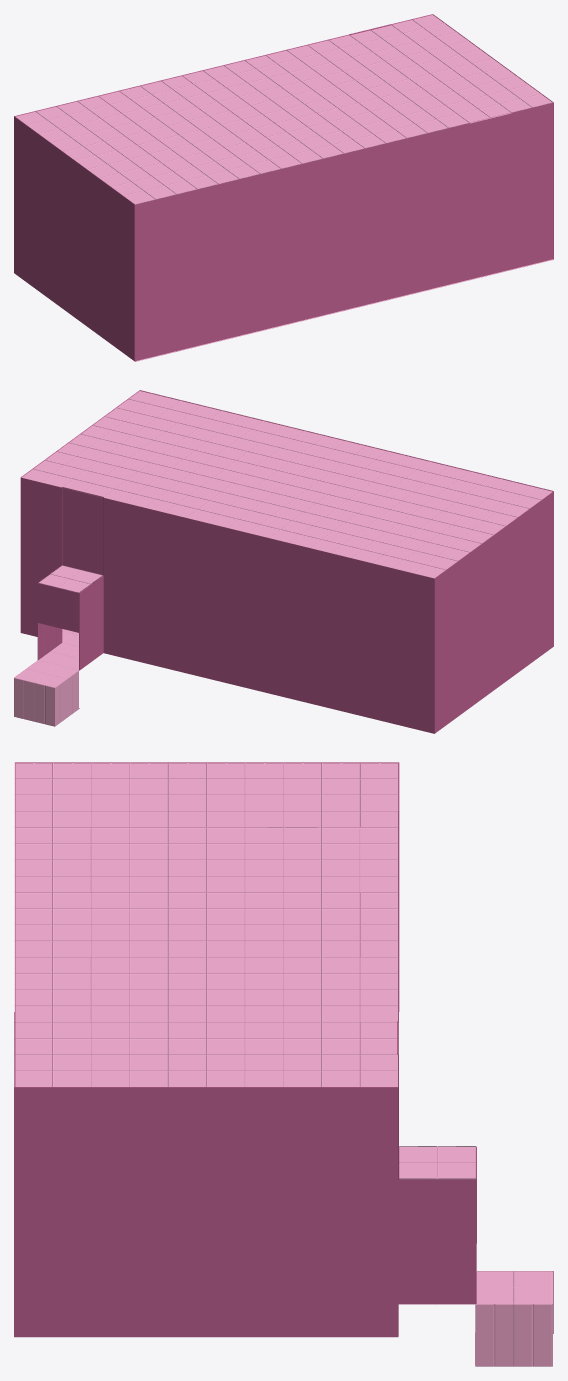
Rendered from ROOM4_Model.fbx.
The picture shows the model from 3 angles, top to bottom: view 1: azimuth 30°, elevation 25°; view 2: azimuth 150°, elevation 25°; view 3: azimuth 270°, elevation 25°; orthographic projection. The views are drawn at different scales.
Parts seen in each view (by area): view 1: pPlane67; view 2: pPlane67; view 3: pPlane67.
Boxes of the visible parts, bbox=[...] form: pPlane67: bbox=[14, 14, 553, 361]; pPlane67: bbox=[14, 390, 553, 733]; pPlane67: bbox=[14, 762, 553, 1366].
Bounding box in the file's own units: 8010 × 3594 × 5622.
Materials: 8 (5 with a texture image).
